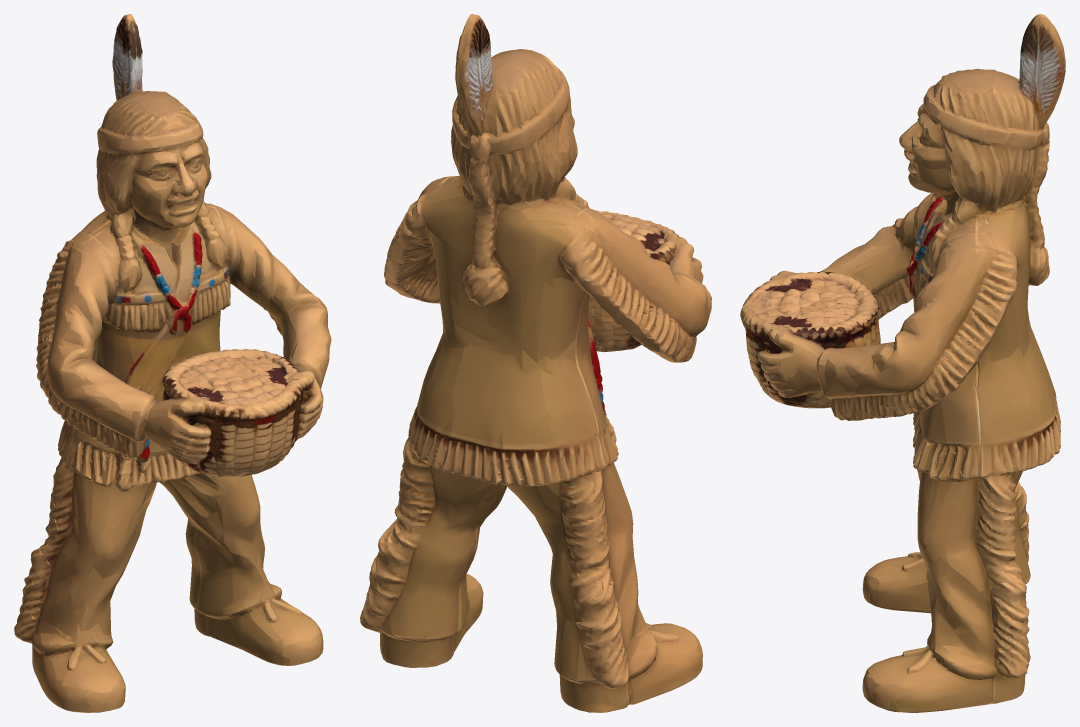
3 renders of one model, left to right at view 1: azimuth 30°, elevation 25°; view 2: azimuth 150°, elevation 25°; view 3: azimuth 270°, elevation 25°, orthographic. The views are drawn at different scales.
Size of the model in its own units: 0.8776 by 1.9 by 0.88.
Materials: 1 (1 with a texture image).
